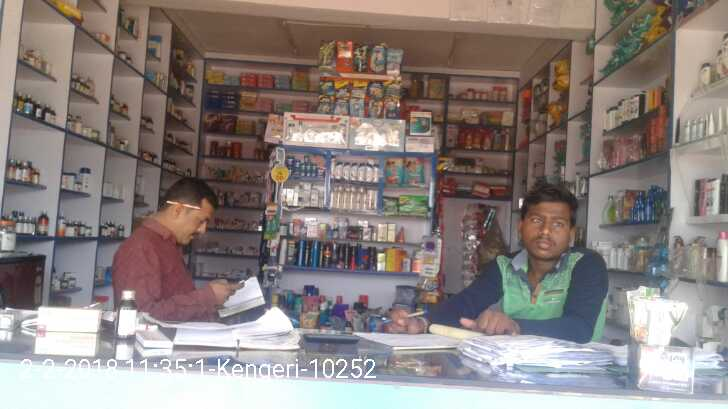beauty: (366, 188, 374, 212), (331, 189, 340, 209), (335, 160, 343, 180), (357, 162, 365, 182), (339, 189, 347, 209), (343, 161, 351, 180), (365, 164, 373, 183), (347, 189, 355, 208), (354, 189, 361, 209), (350, 162, 357, 181), (374, 163, 381, 181), (361, 189, 367, 210)
pharmacy: (401, 149, 426, 186), (383, 153, 404, 186), (398, 192, 429, 213), (299, 166, 315, 177), (285, 152, 294, 166), (300, 160, 314, 168), (317, 165, 323, 176), (304, 153, 311, 161), (294, 158, 300, 165)
